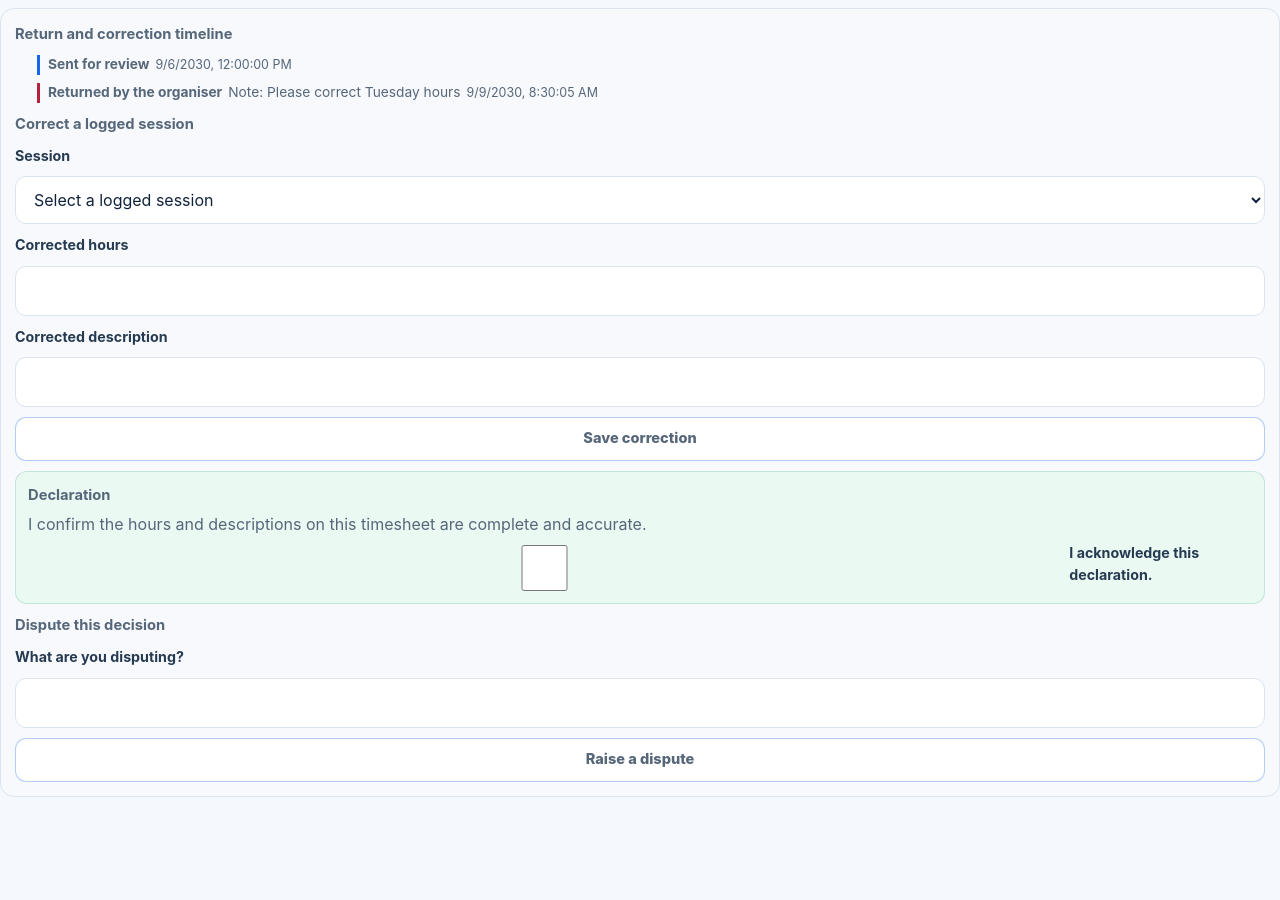
Test case: TimesheetCorrectionPanel › saves a correction and repeats back what it replaced
Step 1. Select "2030-09-03: 2.5h - Tuesday lab" in the dropdown labelled "Session" → (640, 200), box left=15, top=176, right=1265, bottom=224
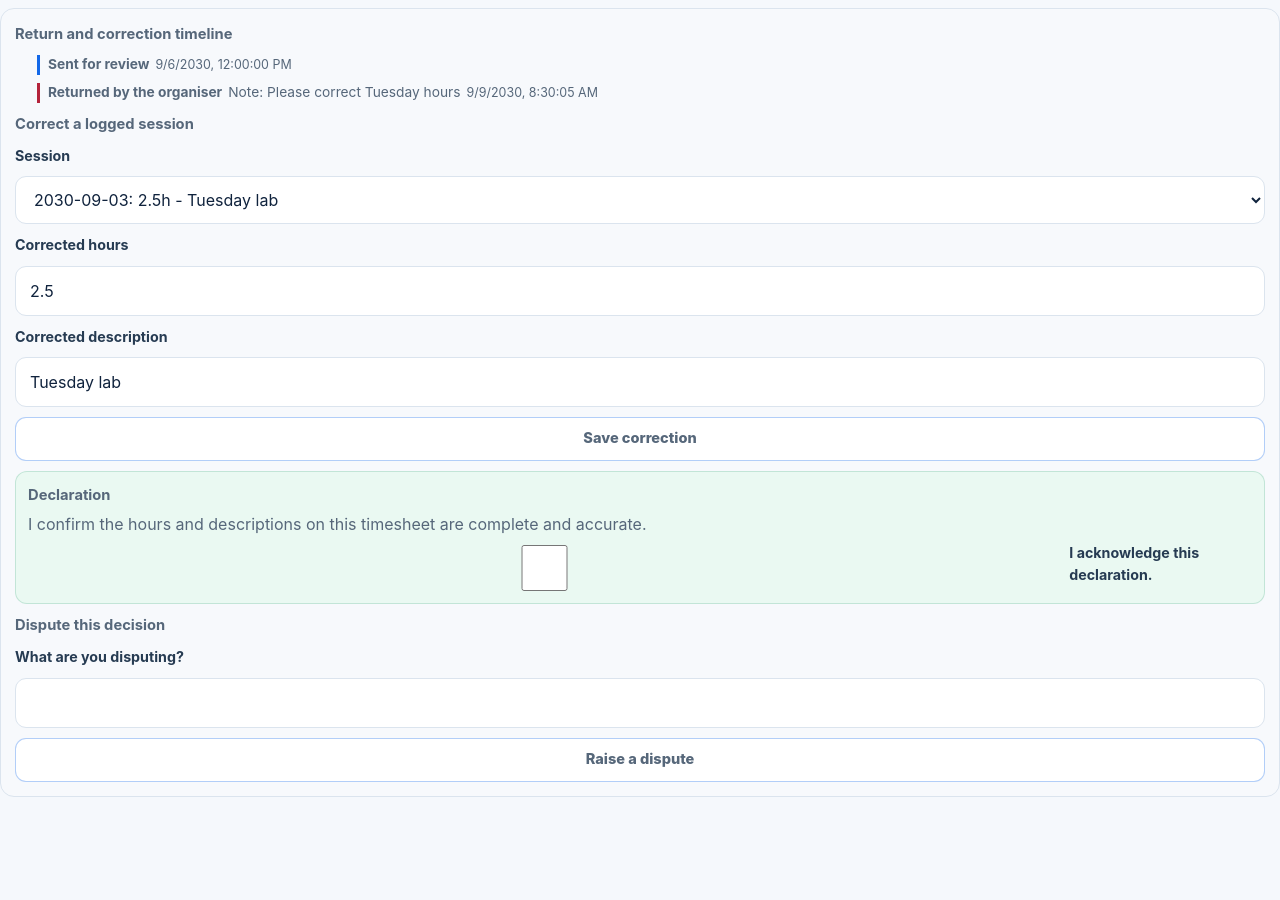
Step 2. Replace the text in the number field labelled "Corrected hours" with "1.5" → (640, 291), box left=15, top=266, right=1265, bottom=316
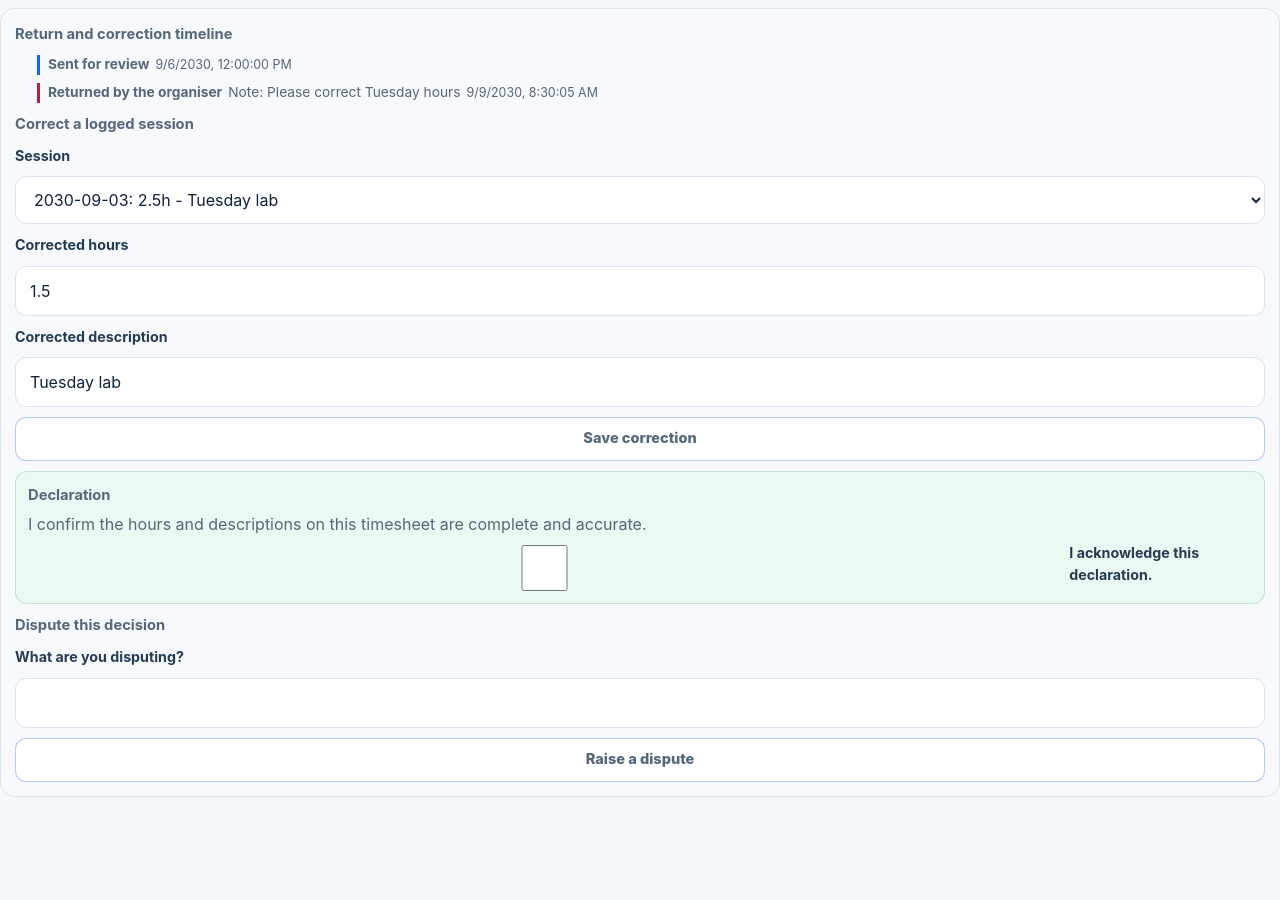
Step 3. Replace the text in the field labelled "Corrected description" with "Shortened Tuesday lab" → (640, 382), box left=15, top=357, right=1265, bottom=407
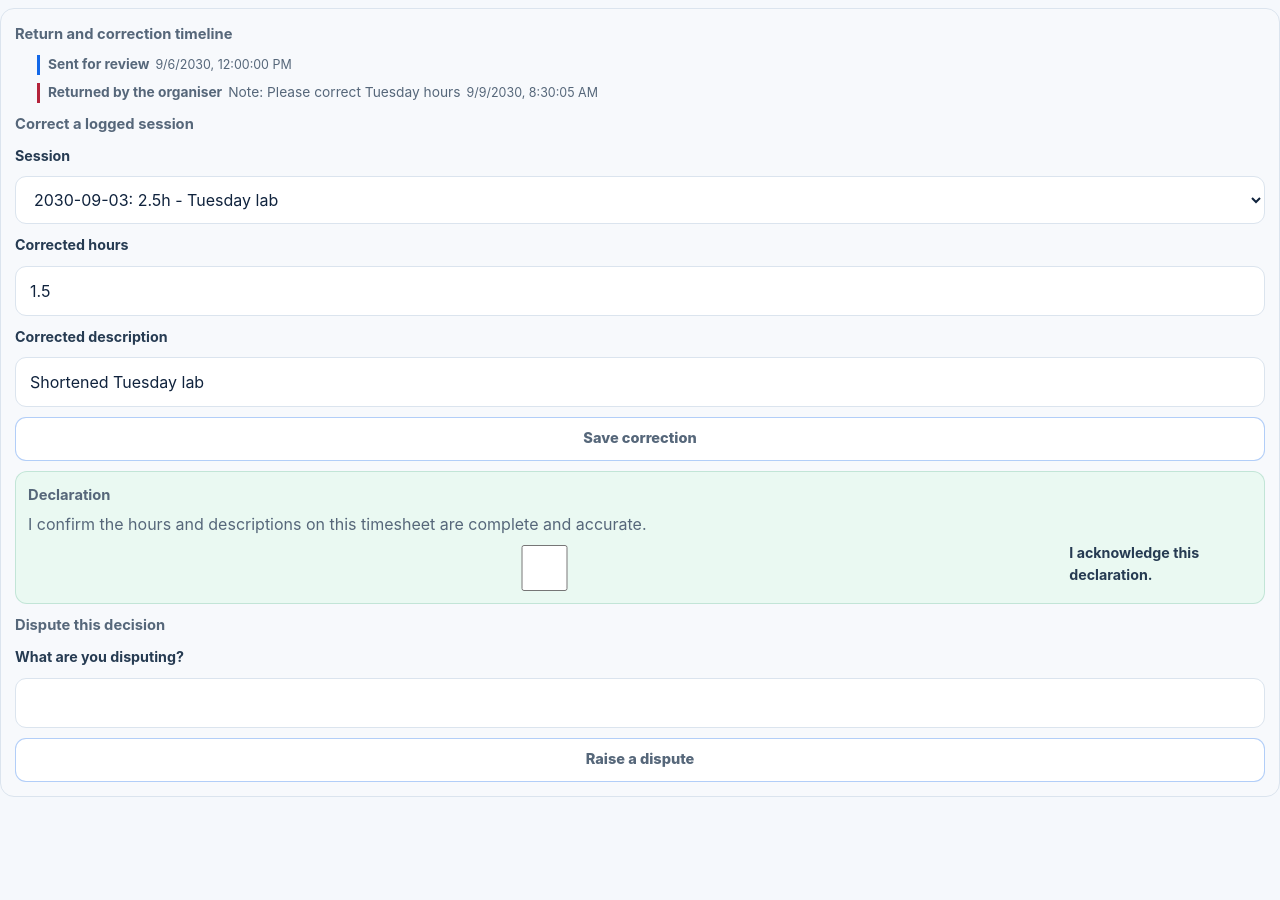
Step 4. Click the button "Save correction" → (640, 439), box left=15, top=417, right=1265, bottom=461
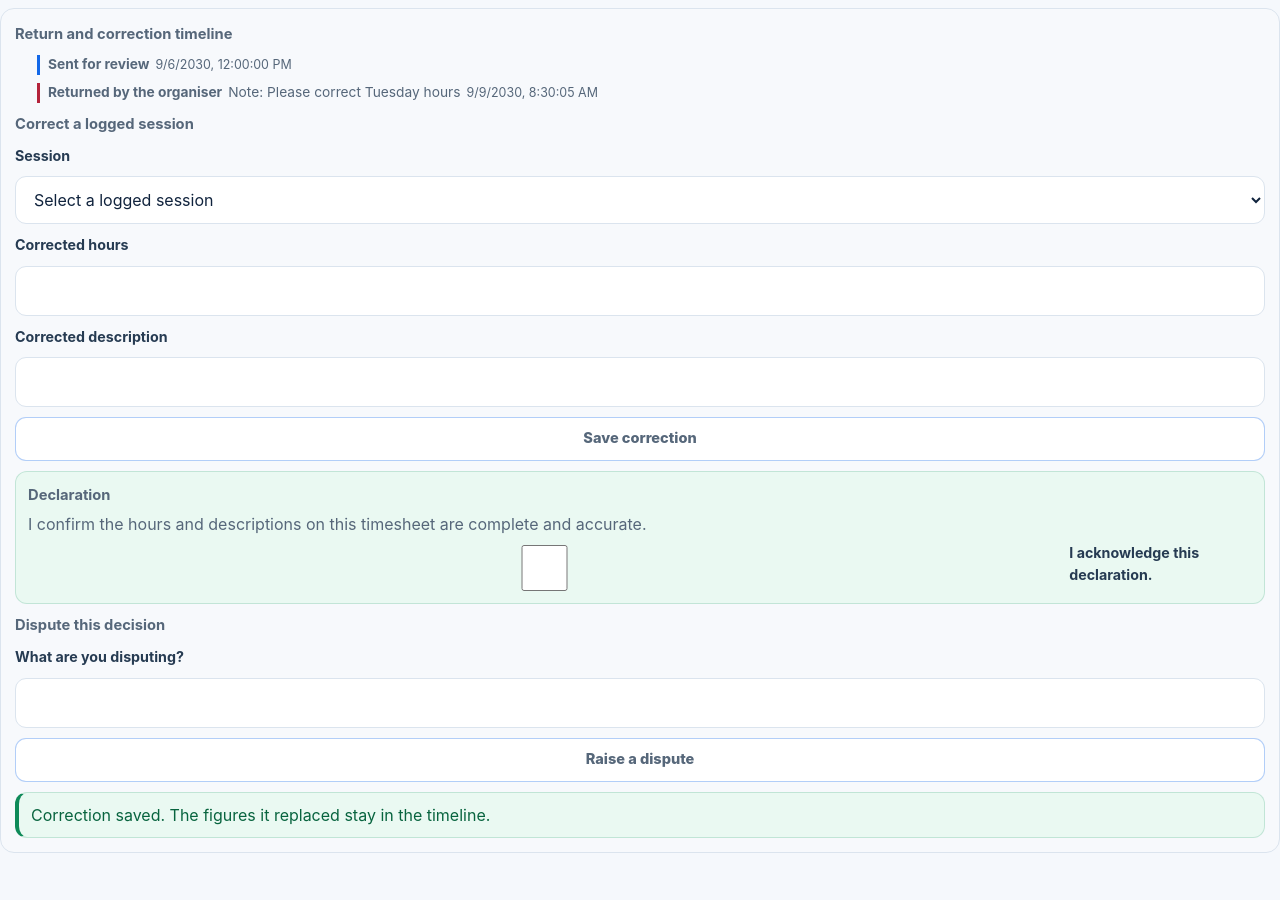
Check: the message shows "The figures it replaced stay", box left=31, top=805, right=490, bottom=825
